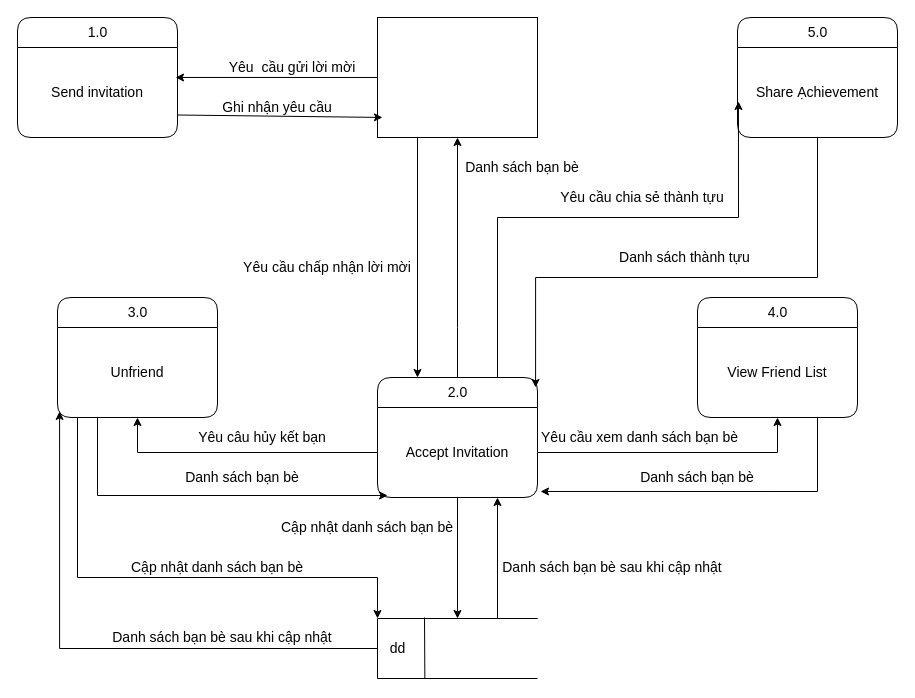
Some shapes in this 915 by 698 pixel diagram are drawn without their labels. The shapes that lost their labels are listed below. From the top down, each one's centre as x and y in pixels, then its label:
At pixel 457 77: "User".
At pixel 457 648: "Local Storage".
